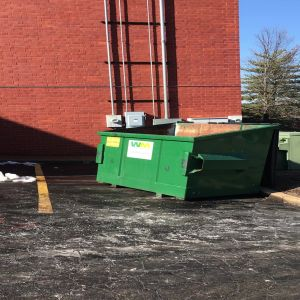Dumpster: (95, 120, 285, 207)
